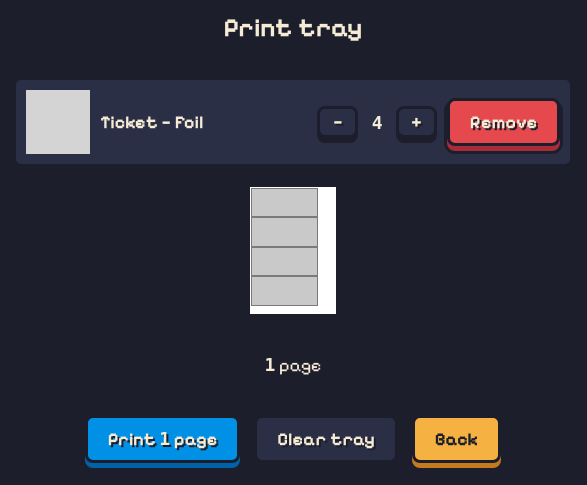
Test: stepper changes copies and the page count follows
This screenshot has width=587, height=485.
Expected: the element with test id "page-count" reads "1 page", 265,352 -> 321,379
Click the button named "more copies" at coordinates (416, 122), box 396,106 -> 437,138
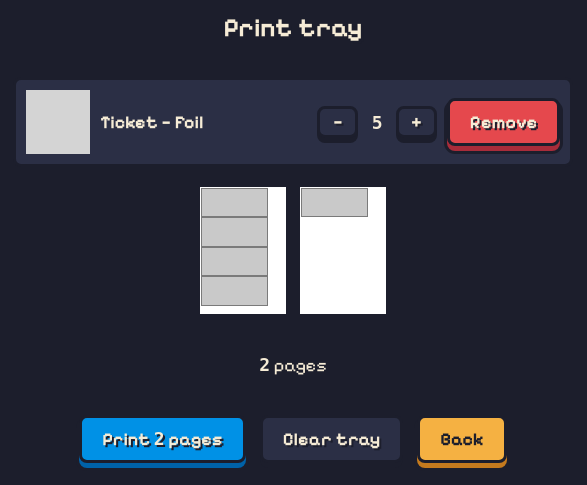
Expected: the element with test id "page-count" reads "2 pages", 259,352 -> 327,379
Expected: the button "Print 2 pages" is shown, 79,415 -> 246,463
